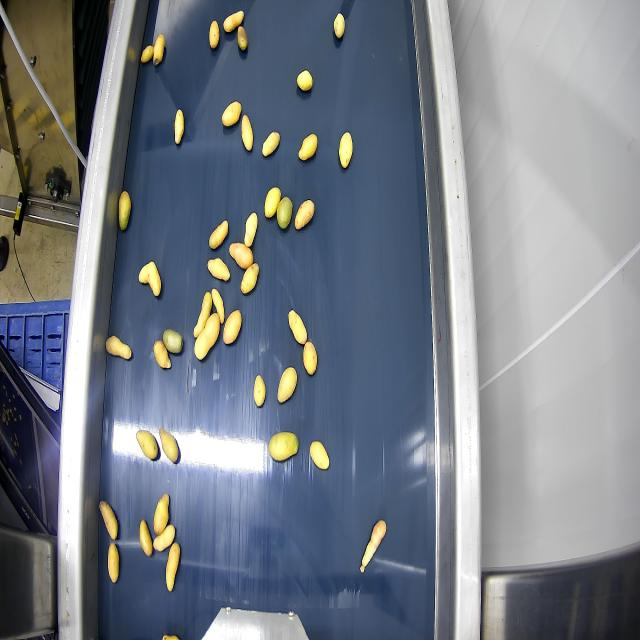Baby Potato: (360, 520, 386, 572), (194, 313, 219, 360), (268, 432, 298, 461), (193, 292, 212, 337), (276, 363, 296, 405), (139, 261, 161, 296), (99, 501, 117, 540), (166, 543, 180, 591), (159, 428, 178, 463), (288, 310, 307, 344), (136, 431, 158, 460), (229, 243, 253, 269), (154, 494, 169, 535), (223, 310, 241, 344), (294, 200, 314, 230), (106, 336, 131, 359), (153, 525, 175, 551), (310, 441, 329, 470), (209, 220, 228, 248), (241, 263, 258, 294), (265, 187, 281, 218), (119, 191, 131, 231), (277, 197, 292, 229), (244, 213, 258, 247), (303, 341, 317, 375), (339, 132, 352, 168), (299, 134, 317, 160), (139, 520, 152, 556), (211, 288, 224, 324), (208, 258, 229, 280), (222, 102, 241, 126), (163, 329, 182, 353), (241, 114, 253, 151), (108, 543, 119, 583), (154, 341, 170, 368), (262, 132, 279, 157), (223, 11, 243, 32), (174, 109, 184, 145), (254, 375, 265, 407), (153, 34, 164, 65), (297, 70, 312, 91), (209, 21, 219, 49), (334, 14, 344, 39), (237, 26, 247, 51), (141, 46, 153, 63), (163, 635, 178, 639)
